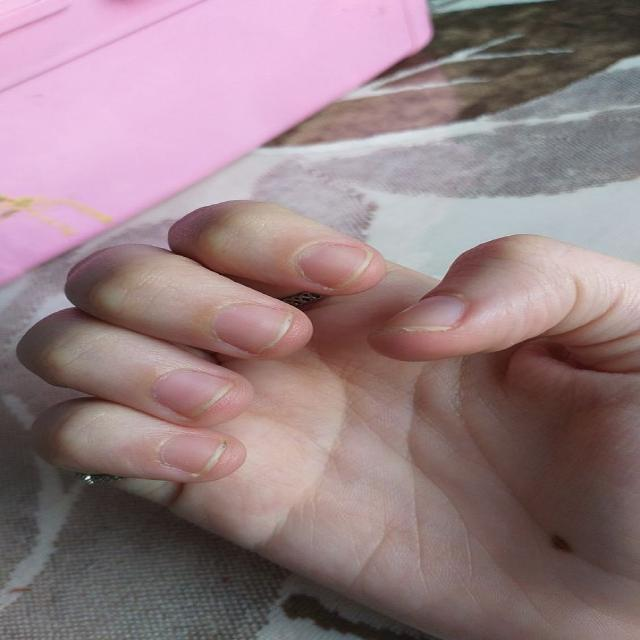Fingernail: (214, 303, 294, 353), (156, 369, 230, 421), (298, 245, 372, 289), (384, 295, 467, 331), (162, 434, 228, 477)
